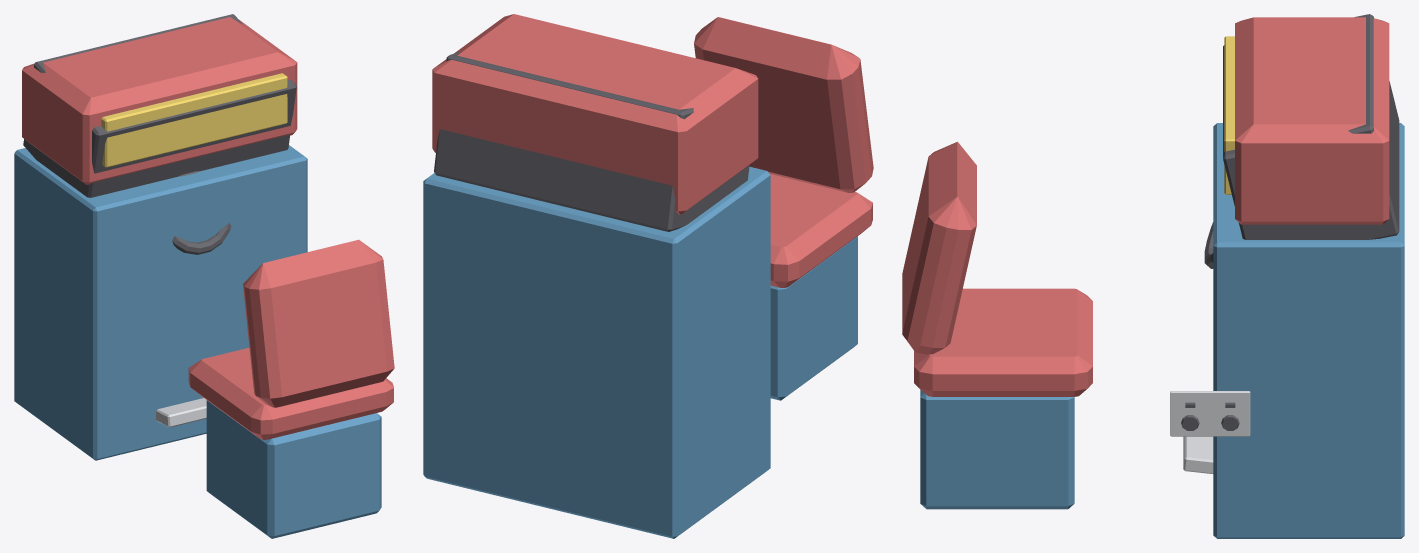
Rendered from amusement-arcade-and-seaside-pier-driving-cabinet-f7f4cbe2__35406.glb.
3 views of the same model, side by side, from view 1: azimuth 30°, elevation 25°; view 2: azimuth 150°, elevation 25°; view 3: azimuth 270°, elevation 25° (orthographic). The views are drawn at different scales.
Parts seen in each view (by area): view 1: driving-cabinet; view 2: driving-cabinet; view 3: driving-cabinet.
Boxes of the visible parts, bbox=[...] form: driving-cabinet: bbox=[14, 14, 394, 538]; driving-cabinet: bbox=[423, 14, 873, 538]; driving-cabinet: bbox=[902, 14, 1404, 538].
Bounding box in the file's own units: 1.07 × 1.46 × 1.63.
